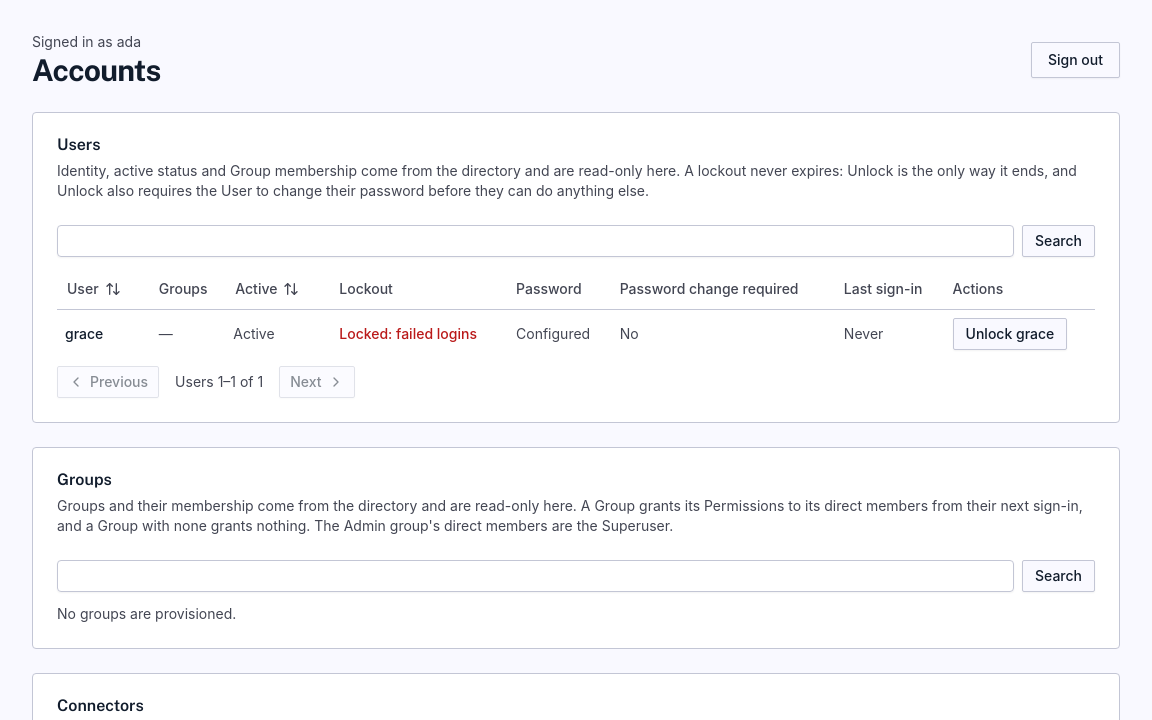
Test: Accounts › says Unlock is the only way a lockout ends and that it requires a password change
Check: the text "A lockout never expires: Unlock is the only way it ends, and Unlock also requires the User to change their password befo" is shown, box [57,162,1077,199]
Focus the button "Unlock grace". click: (1010, 334)
box: [953,318,1067,350]
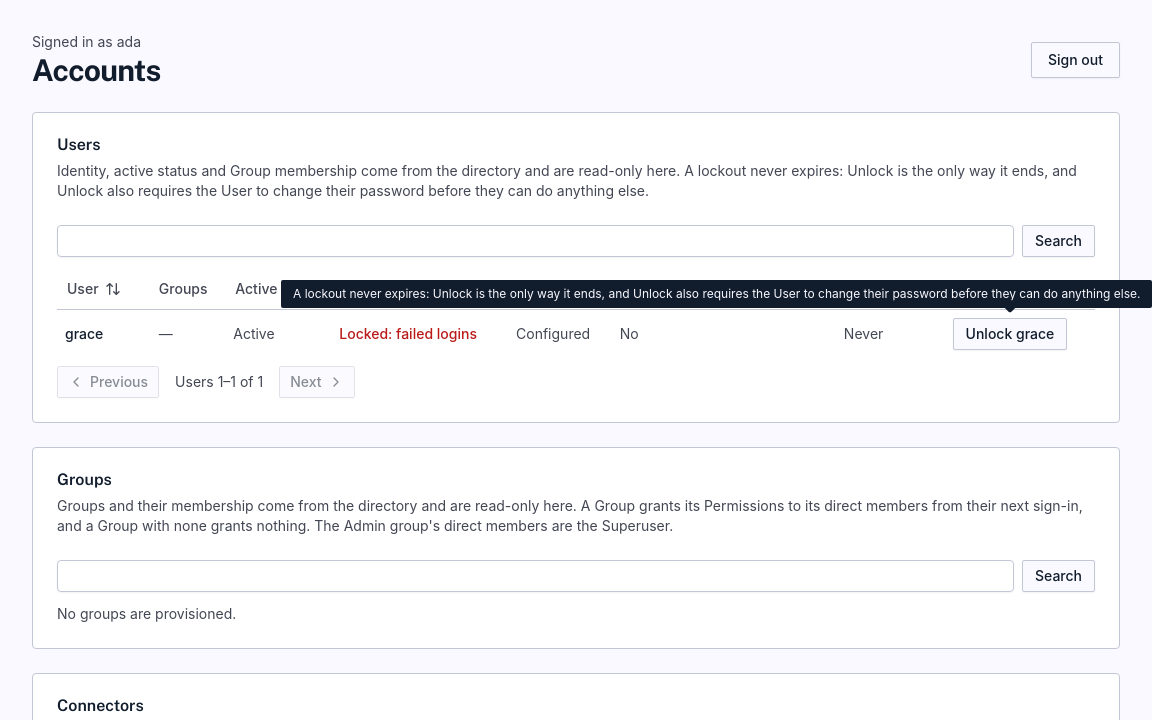
Check: the tooltip shows "A lockout never expires: Unlock is the only way it ends, and Unlock also requires the User to change their password before they can do anything else.", box [293,286,1140,301]
